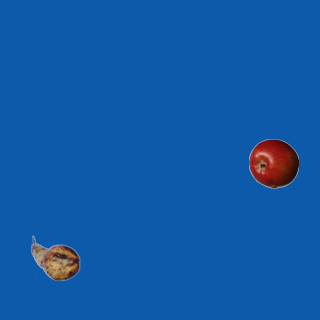Apple Braeburn: (248, 138, 298, 188)
Pear Abate: (30, 233, 80, 283)
